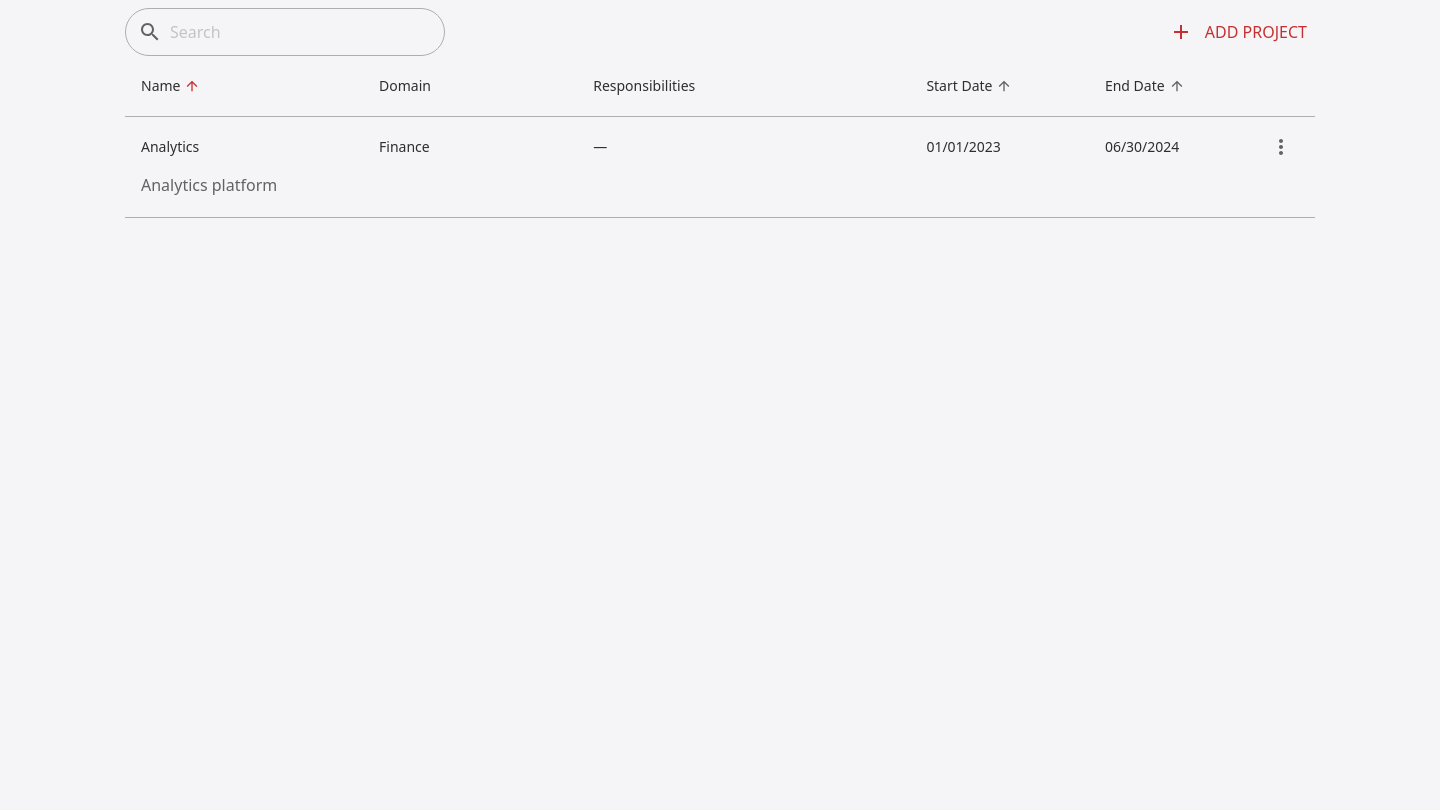
Test: CV projects › uses catalog positions as roles and keeps an assigned role during editing
Click the button "Add project".
click(1238, 32)  # box left=1161, top=10, right=1315, bottom=54
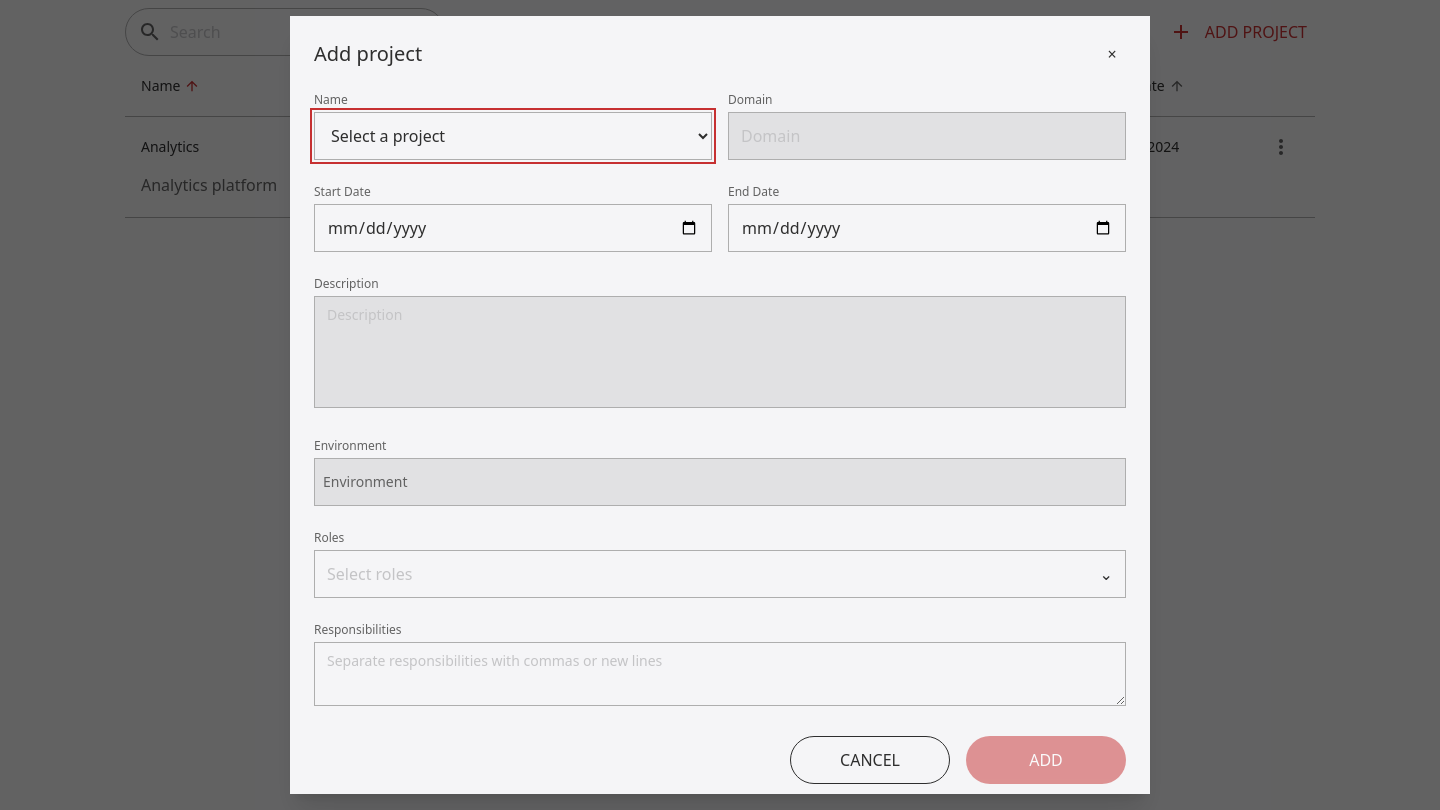
Click the button "Select roles ⌄".
click(370, 574)  # box left=314, top=550, right=1126, bottom=598
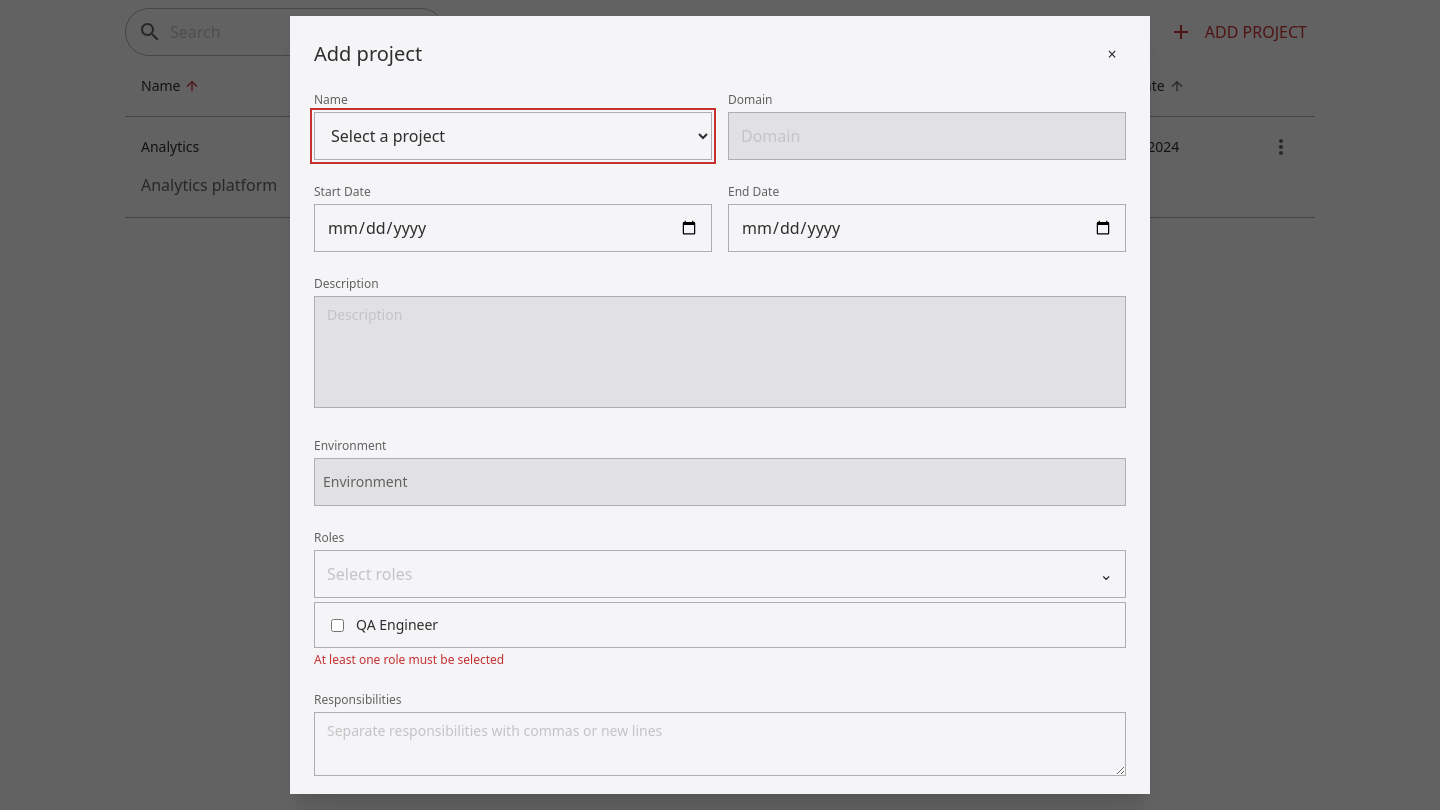
Expected: the checkbox labelled "Former Position" is not shown
Expected: the checkbox labelled "QA Engineer" is shown, left=331, top=618, right=344, bottom=632
Click the button named "Close Add project".
click(1112, 54)  # box left=1098, top=40, right=1126, bottom=68
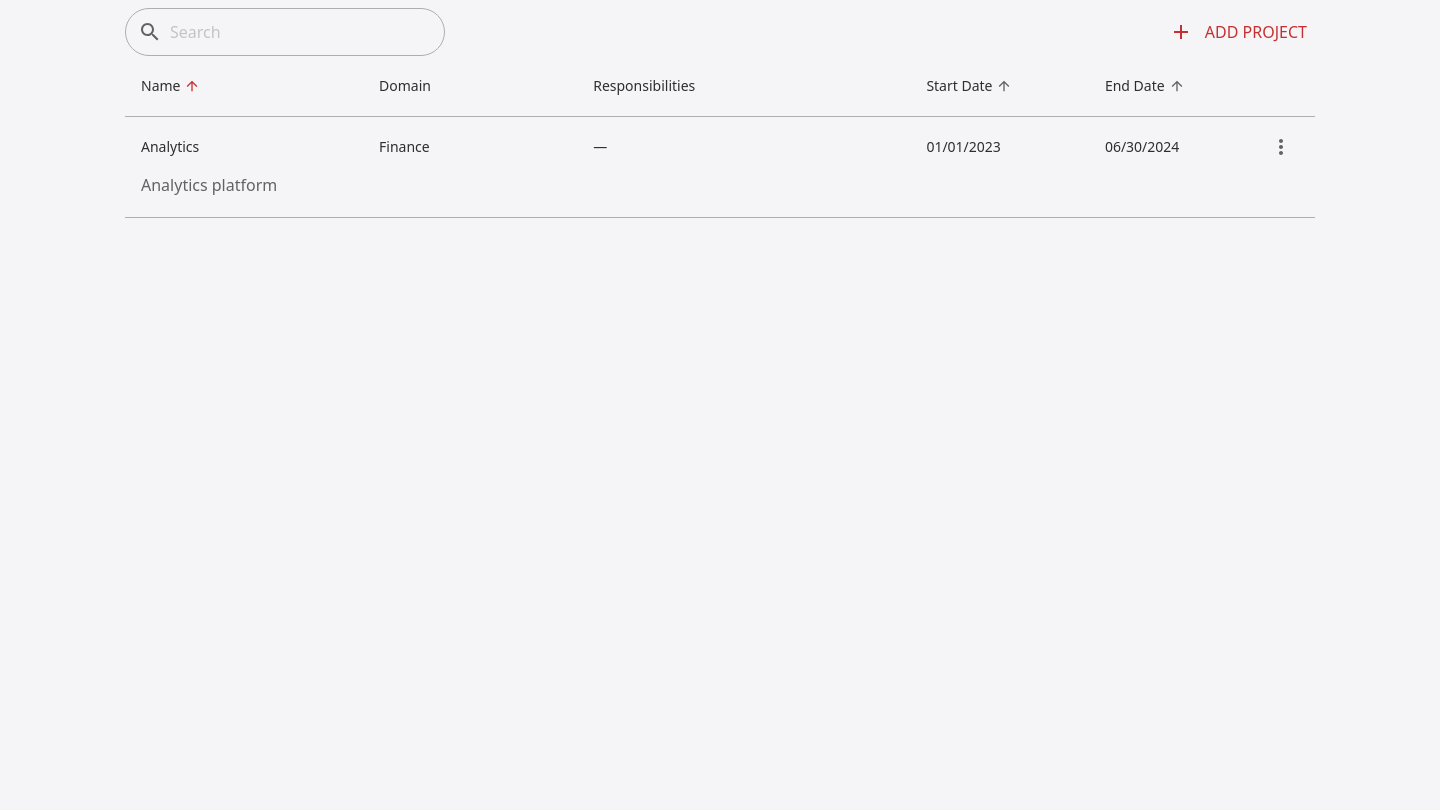
Click the button named "Actions for Analytics".
click(1281, 147)  # box left=1267, top=133, right=1295, bottom=161
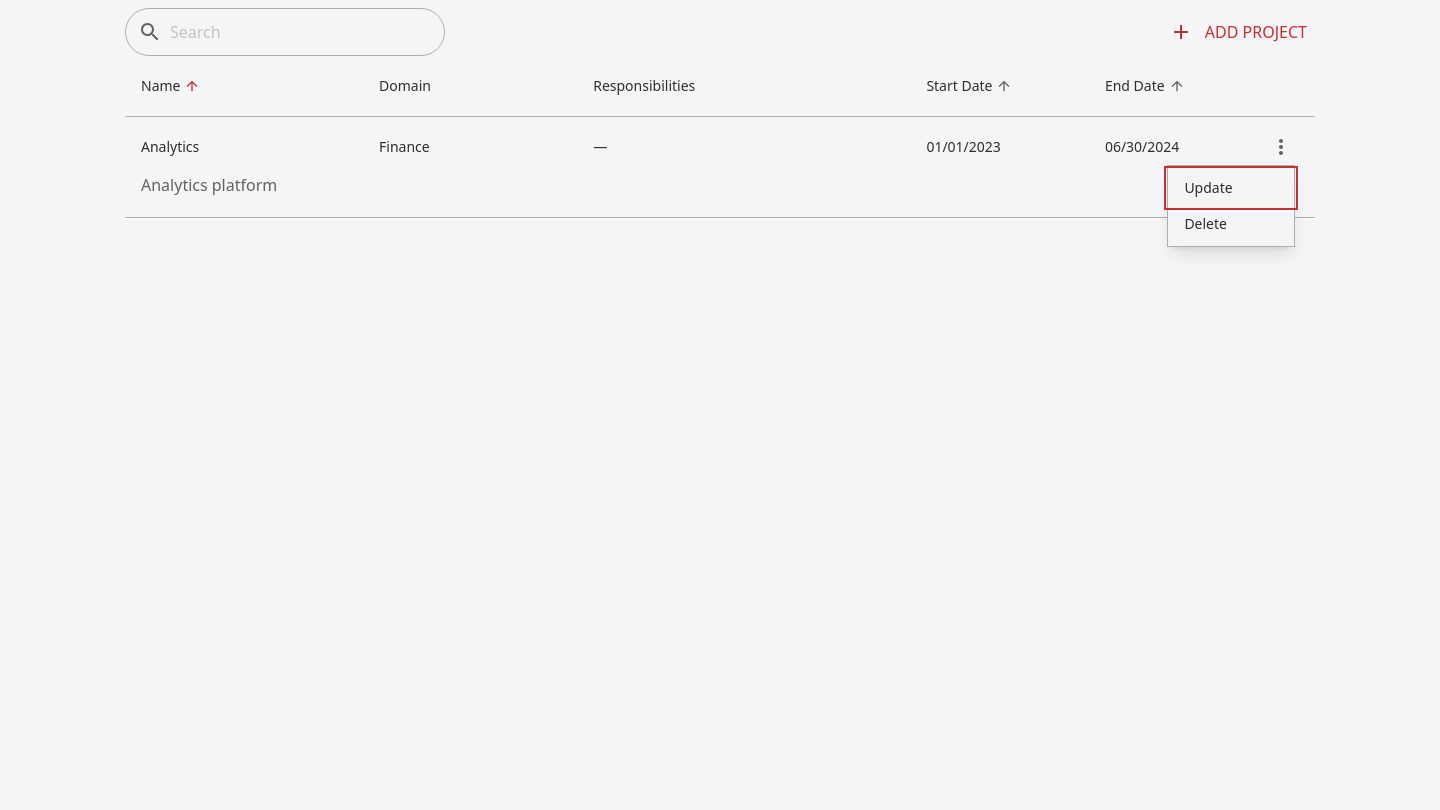
Click the menu item "Update".
click(1231, 188)  # box left=1168, top=170, right=1294, bottom=206
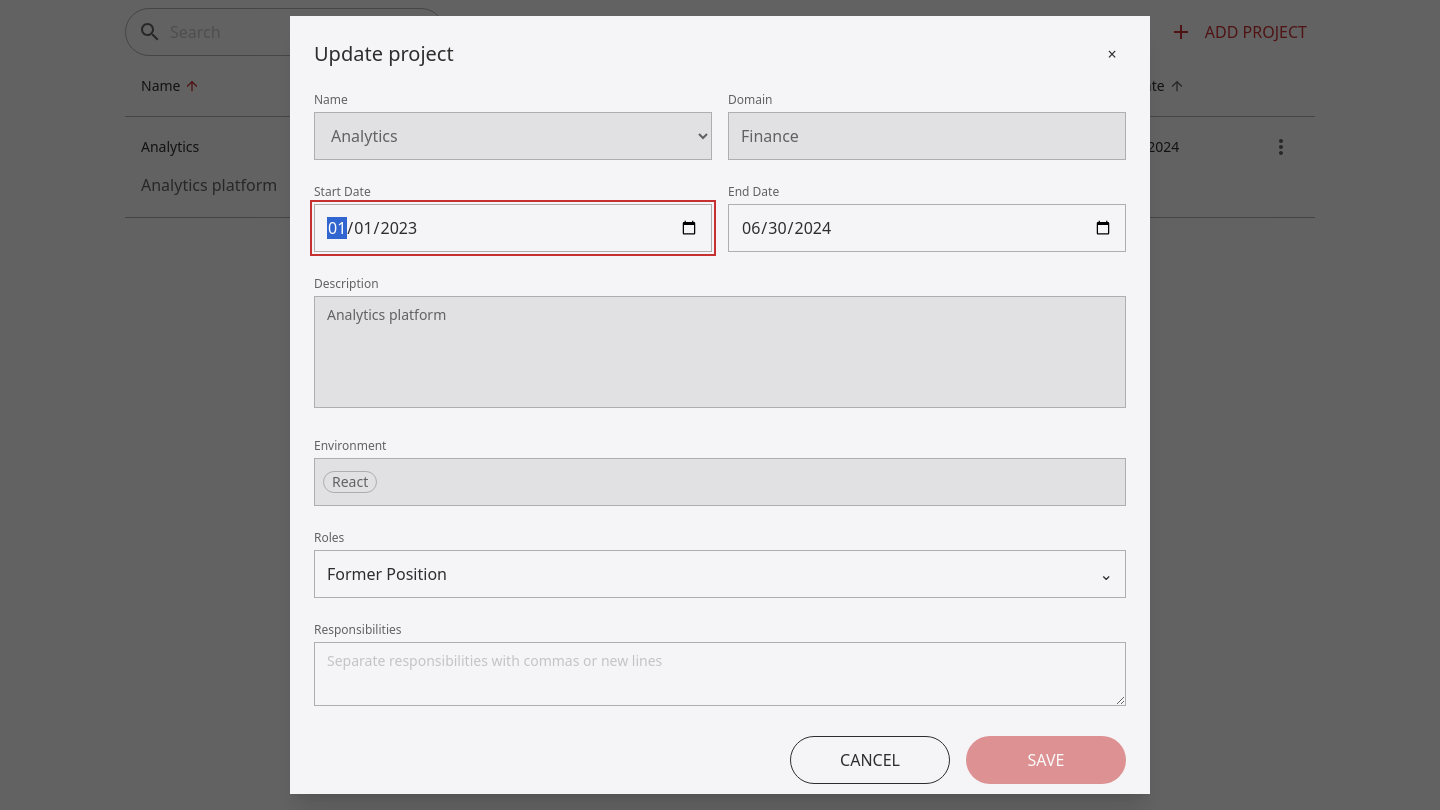
Click the button named "Roles".
click(387, 574)  # box left=314, top=550, right=1126, bottom=598
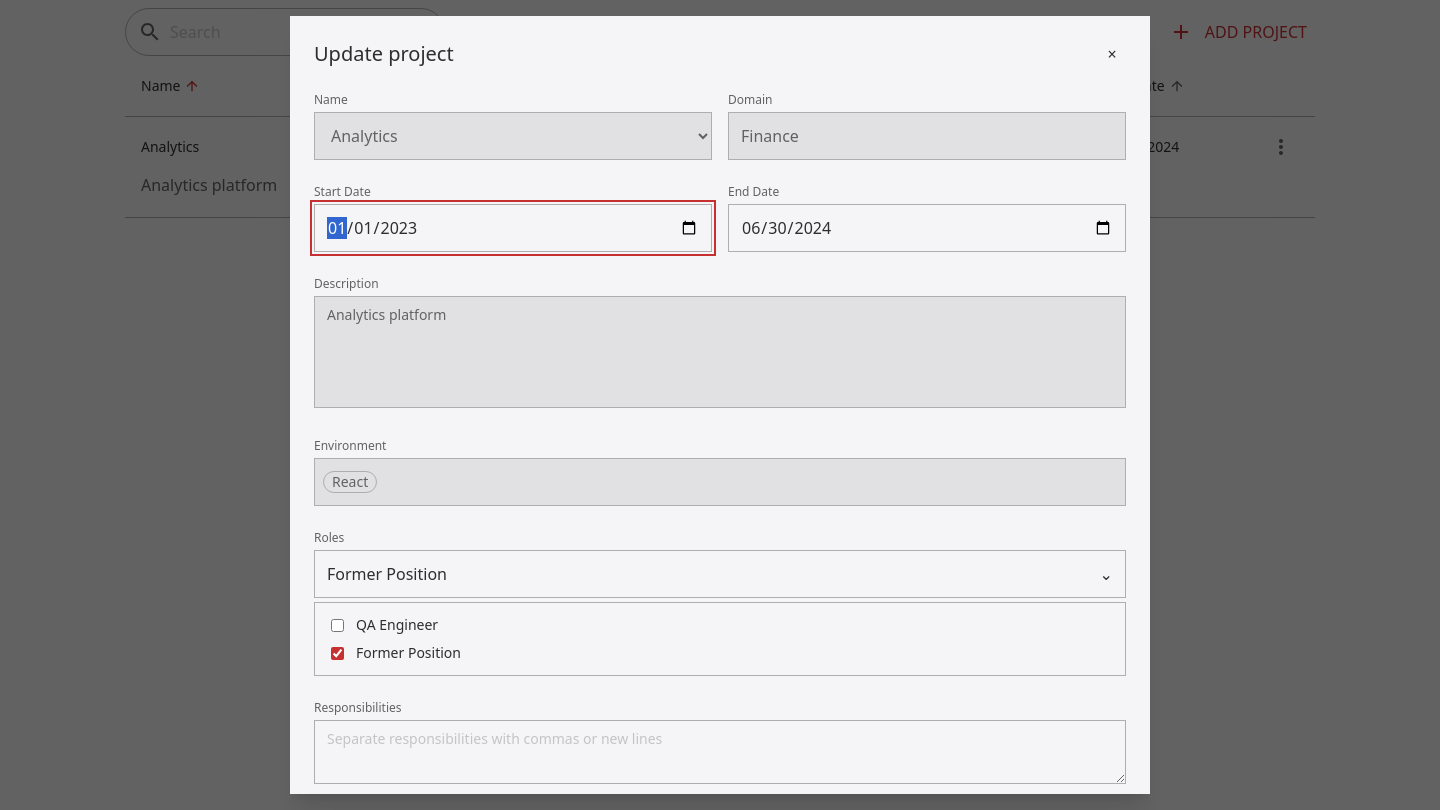
Expected: the checkbox labelled "Former Position" is checked, left=331, top=646, right=344, bottom=660
